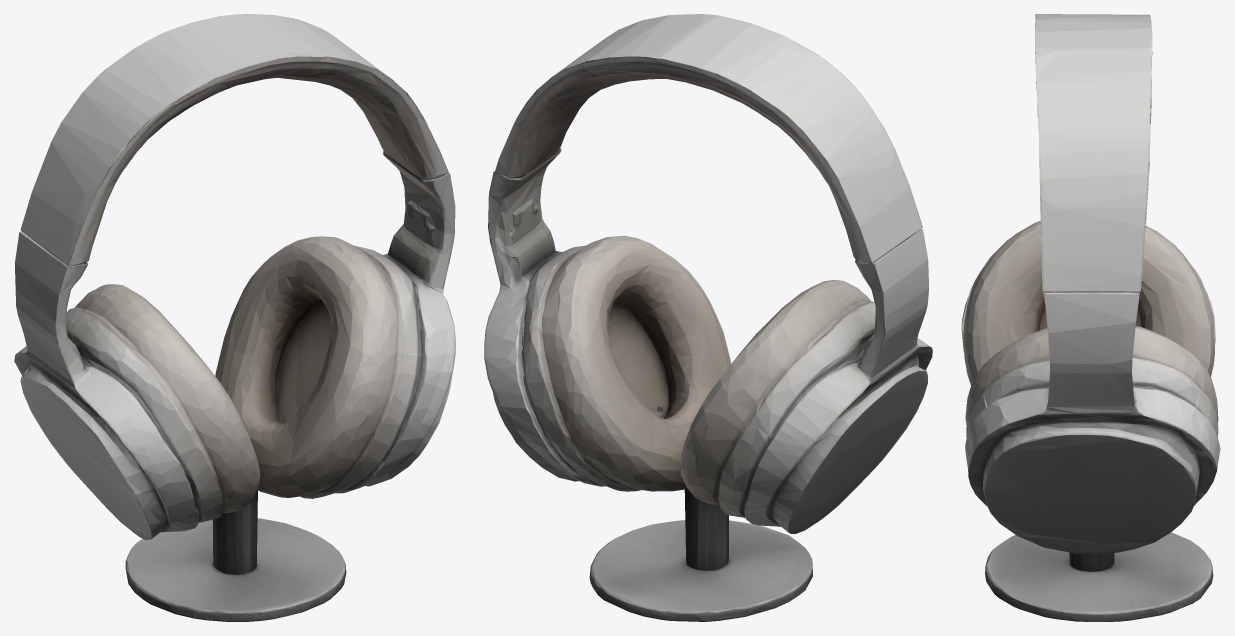
File: headphones_white_stand_2.glb
3 views of the same model, side by side, from view 1: azimuth 30°, elevation 25°; view 2: azimuth 150°, elevation 25°; view 3: azimuth 270°, elevation 25° (orthographic).
Parts seen in each view (by area): view 1: geometry_0; view 2: geometry_0; view 3: geometry_0.
Boxes of the visible parts, x1,y1,x2,y2 form: geometry_0: (14,14,455,621); geometry_0: (484,14,932,621); geometry_0: (961,14,1220,621).
Bounding box in the file's own units: 0.7843 × 0.9993 × 0.4389.
1 material, 1 textured.
